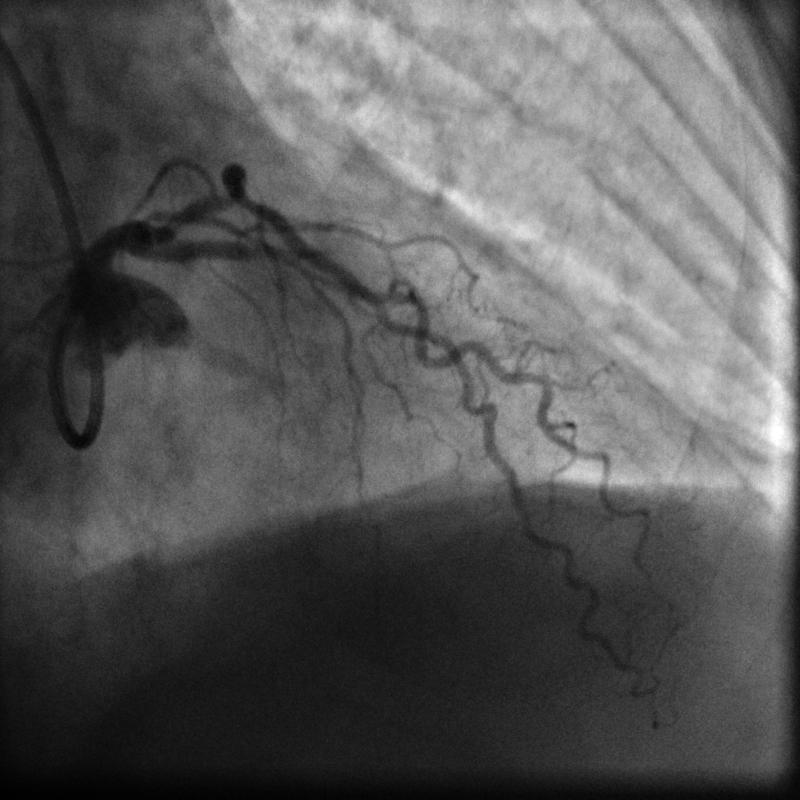Stenosis: (268, 238, 322, 283)
